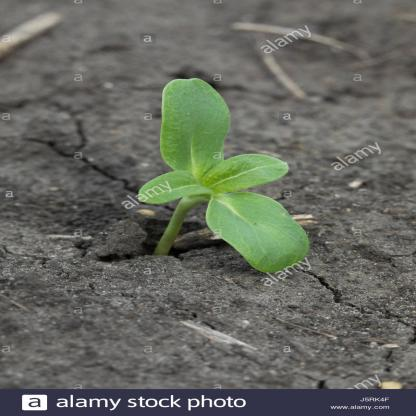Soyabean leaf: (200, 191, 313, 281), (151, 68, 236, 174), (199, 148, 292, 195)
